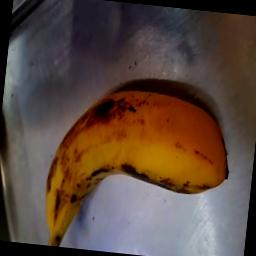Banana Overripe: (46, 48, 245, 221)
